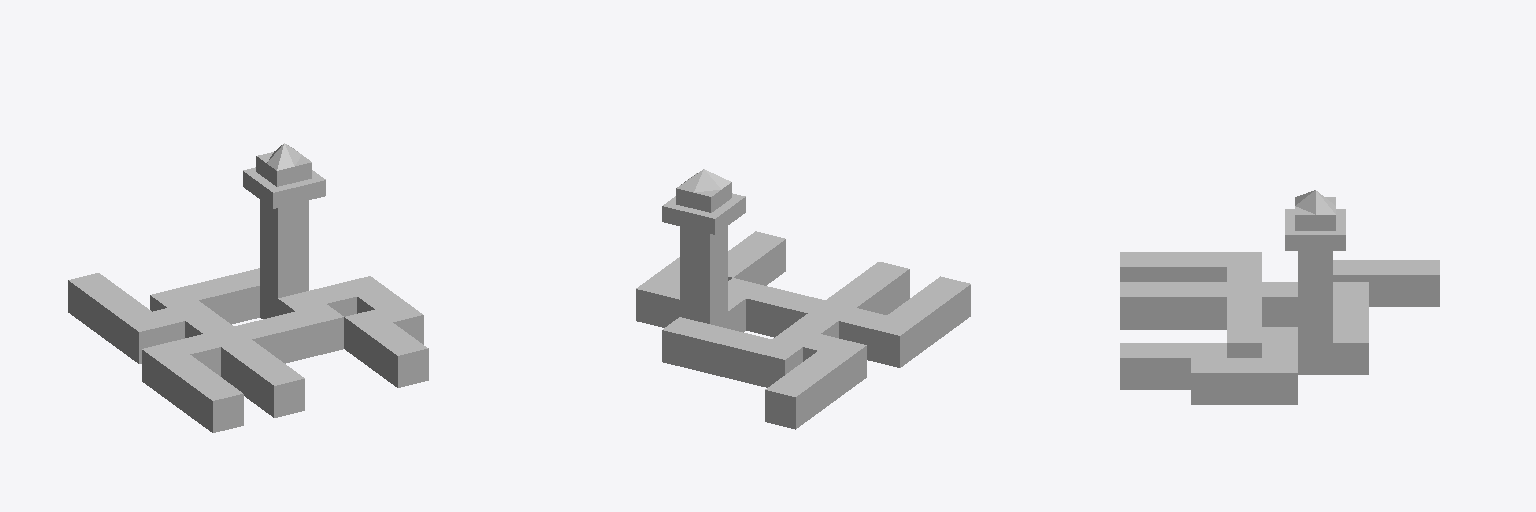
Rendered from level-0.obj.
3 views of the same model, side by side, from view 1: azimuth 30°, elevation 25°; view 2: azimuth 150°, elevation 25°; view 3: azimuth 270°, elevation 25° (orthographic).
Visible parts, largest first — view 1: Plane, Cube_Cube.003, Cube.023_Cube.026, Cube.018_Cube.021, Cube.028_Cube.031, Cube.015_Cube.018, Cube.016_Cube.019, Cube.009_Cube.012, Cube.033_Cube.036, Cube.008_Cube.011, Cube.017_Cube.020, Cube.021_Cube.024 (+21 smaller); view 2: Plane, Cube.029_Cube.032, Cube.020_Cube.023, Cube.024_Cube.027, Cube.015_Cube.018, Cube.016_Cube.019, Cube.033_Cube.036, Cube.034_Cube.037, Cube.009_Cube.012, Cube.005_Cube.008, Cube.032_Cube.035, Cube.017_Cube.020 (+16 smaller); view 3: Plane, Cube.012_Cube.015, Cube.013_Cube.016, Cube.034_Cube.037, Cube.001_Cube.004, Cube.003_Cube.006, Cube.005_Cube.008, Cube.030_Cube.033, Cube.018_Cube.021, Cube_Cube.003, Cube.004_Cube.007, Cube.029_Cube.032 (+21 smaller).
Part boxes in pixels (left/top/right/bottom): Plane: left=243, top=143, right=325, bottom=208; Cube_Cube.003: left=380, top=336, right=428, bottom=387; Cube.023_Cube.026: left=195, top=381, right=243, bottom=432; Cube.018_Cube.021: left=257, top=366, right=304, bottom=417; Cube.028_Cube.031: left=121, top=312, right=169, bottom=363; Cube.015_Cube.018: left=260, top=253, right=308, bottom=297; Cube.016_Cube.019: left=260, top=221, right=308, bottom=265; Cube.009_Cube.012: left=266, top=311, right=313, bottom=363; Cube.033_Cube.036: left=212, top=272, right=259, bottom=324; Cube.008_Cube.011: left=296, top=304, right=343, bottom=355; Cube.017_Cube.020: left=260, top=200, right=308, bottom=233; Cube.021_Cube.024: left=159, top=355, right=207, bottom=406; Plane: left=662, top=169, right=745, bottom=234; Cube.029_Cube.032: left=765, top=377, right=813, bottom=429; Cube.020_Cube.023: left=869, top=316, right=917, bottom=367; Cube.024_Cube.027: left=754, top=340, right=802, bottom=387; Cube.015_Cube.018: left=680, top=280, right=727, bottom=323; Cube.016_Cube.019: left=680, top=248, right=727, bottom=291; Cube.033_Cube.036: left=693, top=324, right=740, bottom=376; Cube.034_Cube.037: left=662, top=317, right=709, bottom=369; Cube.009_Cube.012: left=746, top=286, right=793, bottom=337; Cube.005_Cube.008: left=636, top=276, right=679, bottom=327; Cube.032_Cube.035: left=724, top=332, right=771, bottom=384; Cube.017_Cube.020: left=680, top=226, right=727, bottom=259; Plane: left=1285, top=190, right=1345, bottom=250; Cube.012_Cube.015: left=1191, top=282, right=1226, bottom=329; Cube.013_Cube.016: left=1155, top=282, right=1190, bottom=329; Cube.034_Cube.037: left=1333, top=327, right=1368, bottom=374; Cube.001_Cube.004: left=1155, top=343, right=1190, bottom=389; Cube.003_Cube.006: left=1191, top=358, right=1226, bottom=404; Cube.005_Cube.008: left=1262, top=358, right=1297, bottom=404; Cube.030_Cube.033: left=1369, top=260, right=1404, bottom=306; Cube.018_Cube.021: left=1120, top=282, right=1154, bottom=329; Cube_Cube.003: left=1120, top=343, right=1154, bottom=389; Cube.004_Cube.007: left=1227, top=358, right=1261, bottom=404; Cube.029_Cube.032: left=1405, top=260, right=1439, bottom=306.
Bounding box in the file's own units: 16 × 11 × 18.